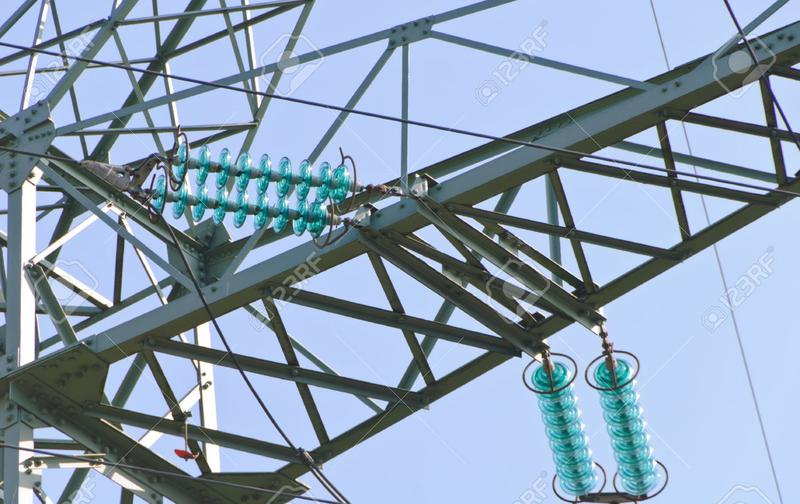isolator: (149, 141, 350, 236), (529, 357, 658, 495)
